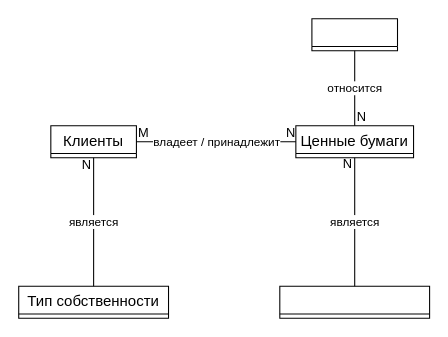
The diagram is 448 pixels wide and 337 high, and some of its shapes have lost their labels. Each missing label, with the box of its shape:
Компании: (311, 18, 398, 51)
Тип ценной бумаги: (279, 285, 430, 318)
